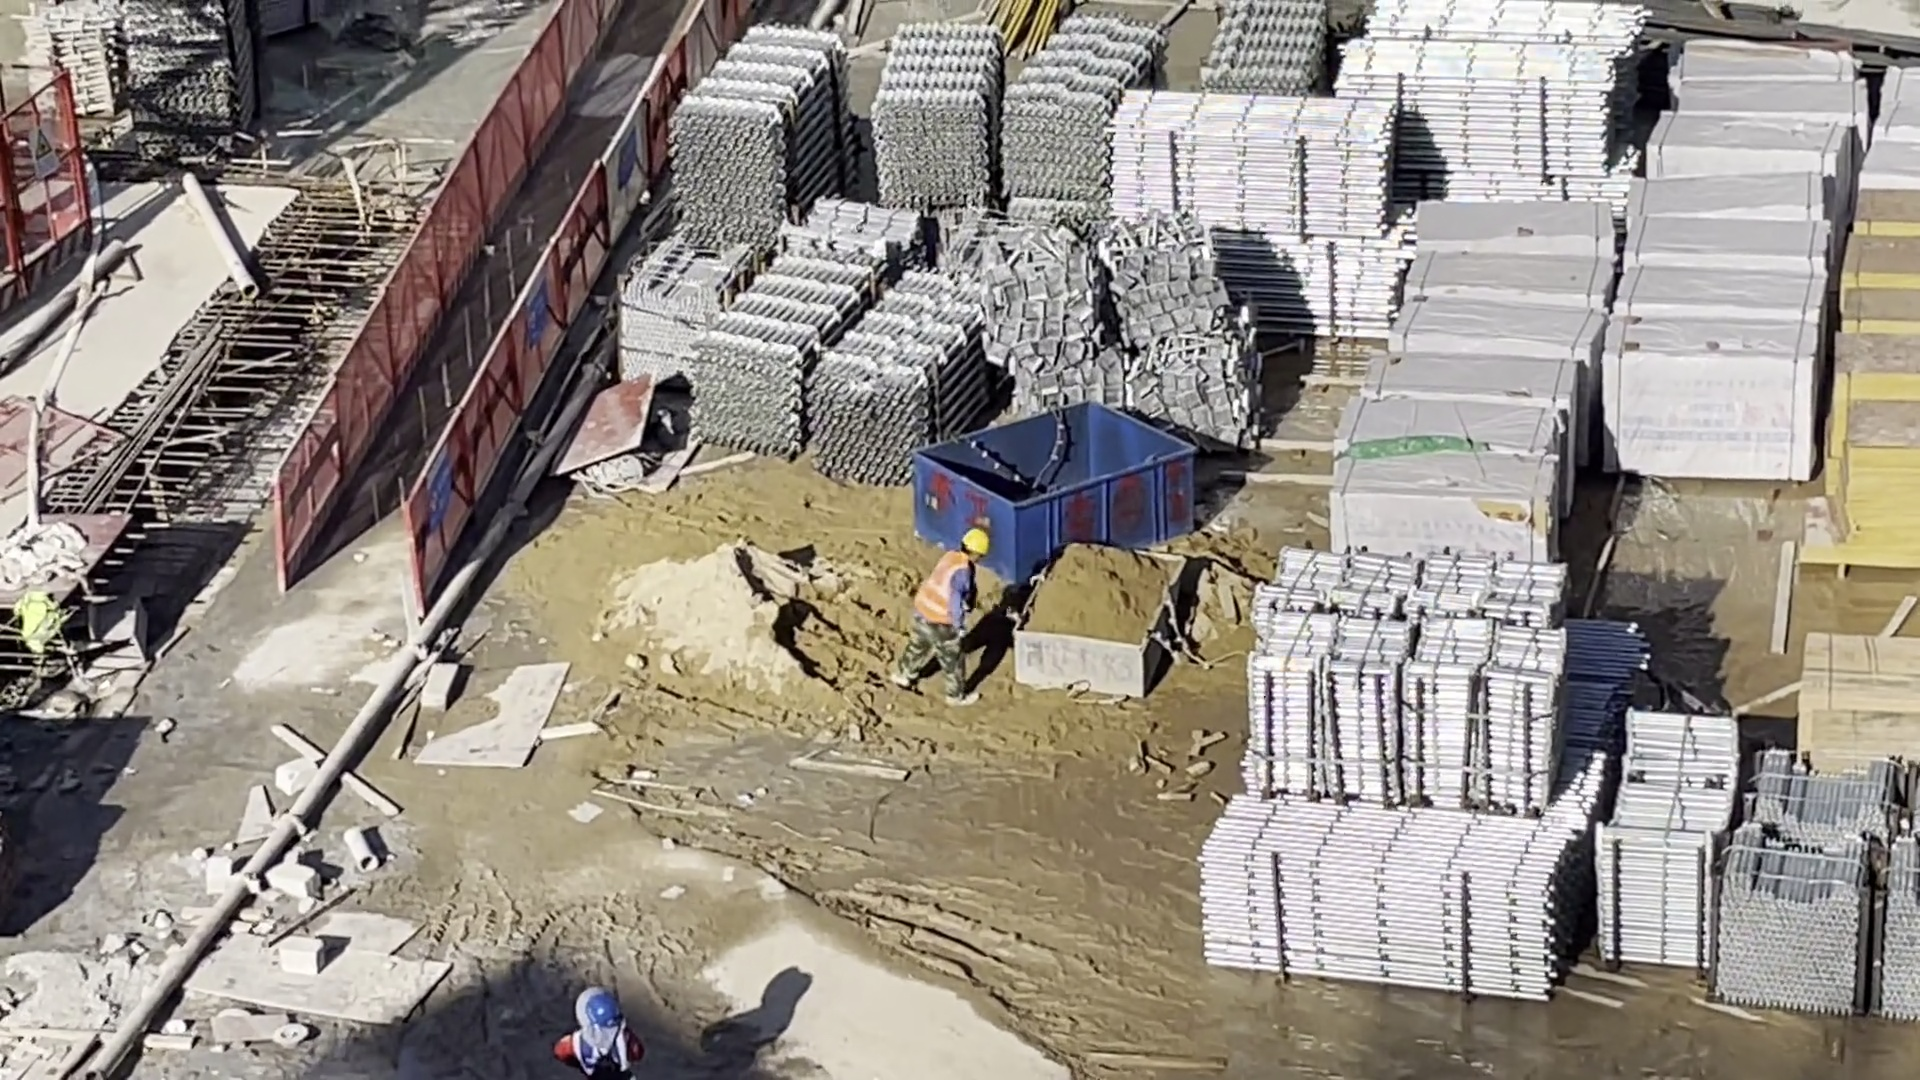board: (1838, 184, 1920, 567), (1806, 643, 1920, 764)
fence: (283, 1, 719, 585)
helmet: (582, 992, 627, 1031), (963, 528, 989, 555)
hopper: (909, 401, 1198, 580), (1013, 547, 1189, 697)
person: (906, 527, 992, 702), (554, 992, 643, 1080)
scaffold: (1251, 549, 1563, 803), (1204, 796, 1579, 1006), (1109, 88, 1397, 323), (686, 254, 985, 479), (1706, 762, 1920, 1013), (870, 18, 1158, 199), (1333, 39, 1620, 183), (671, 26, 847, 242), (1593, 708, 1731, 956), (122, 1, 259, 145), (20, 3, 120, 123), (1212, 4, 1329, 96)
slogan: (428, 445, 450, 541), (524, 272, 547, 342)
vest: (920, 553, 963, 623), (578, 1033, 627, 1074)
